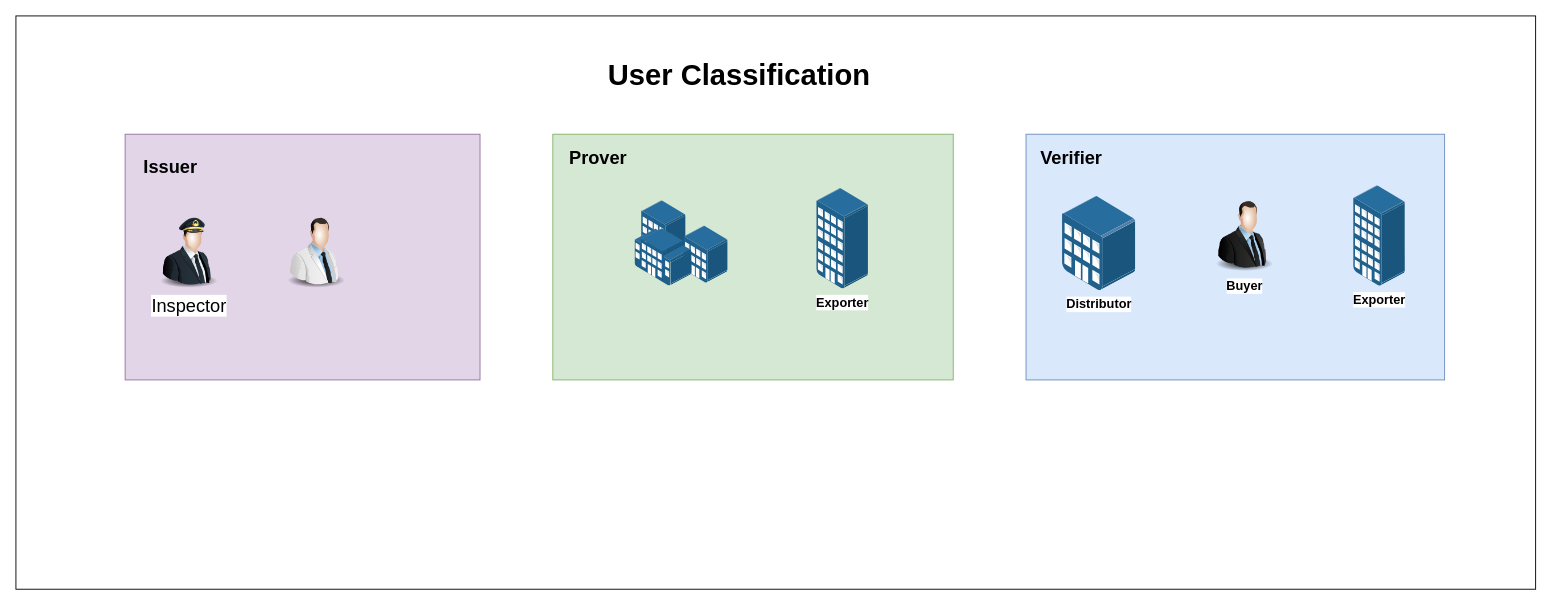
This 1552x605 diagram has some shape labels left out. Here are the shapes that lost their labels. From the top down, the centre of each, then its label:
At point (315, 252): "Importer".
At point (681, 243): "Manufacturer".
